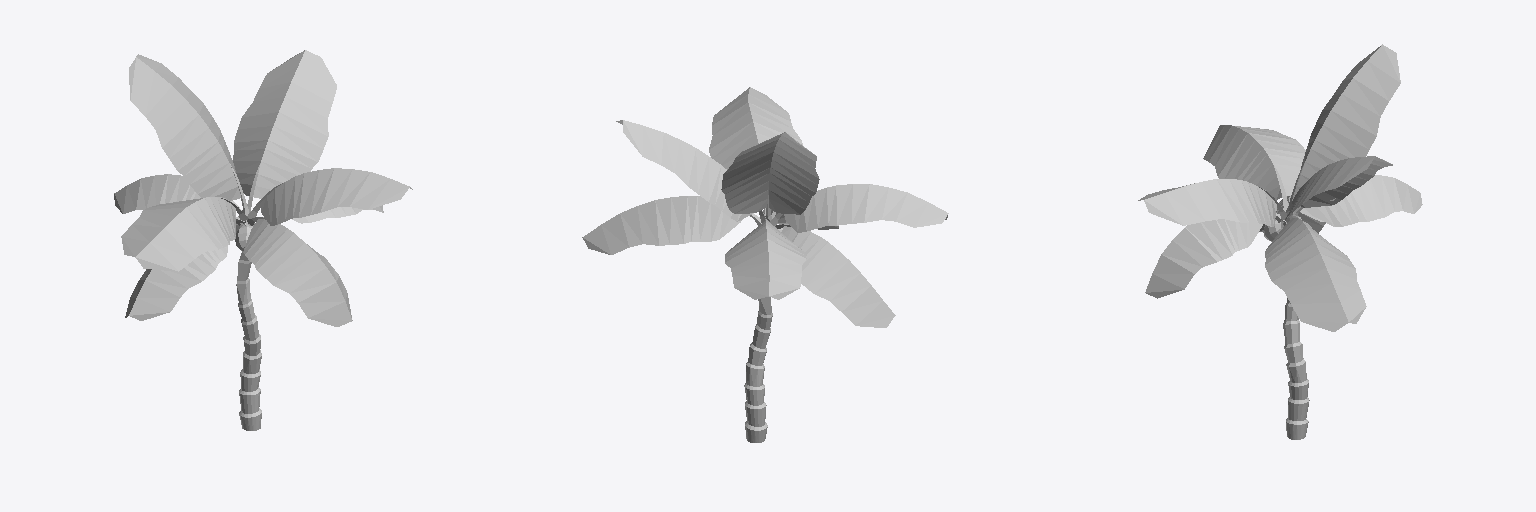
The model's file is coconut palm 04_lod1.obj.
3 views of the same model, side by side, from view 1: azimuth 30°, elevation 25°; view 2: azimuth 150°, elevation 25°; view 3: azimuth 270°, elevation 25° (orthographic).
Visible parts, largest first — view 1: tree; view 2: tree; view 3: tree.
Part boxes in pixels (x1,y1,x2,y2): tree: (114, 50, 412, 430); tree: (582, 87, 948, 442); tree: (1138, 44, 1422, 439).
Size of the model in its own units: 374 by 416 by 302.